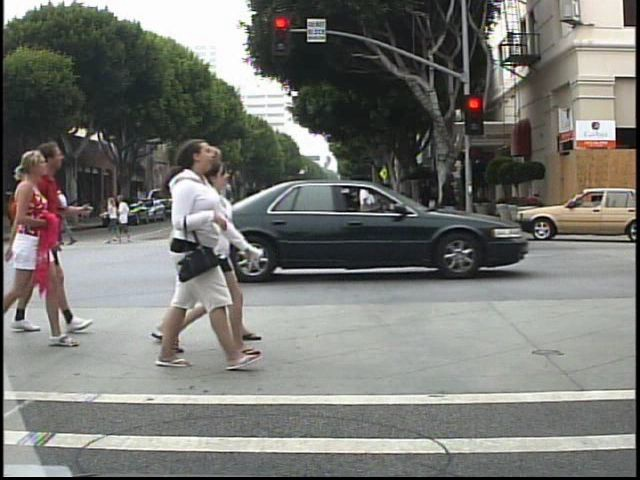person: (150, 137, 243, 380), (194, 148, 271, 352), (190, 159, 260, 368), (10, 149, 74, 352), (28, 138, 72, 336), (352, 177, 380, 241), (48, 192, 74, 247), (182, 186, 205, 248), (56, 186, 77, 248), (240, 183, 262, 241), (351, 187, 366, 223)
